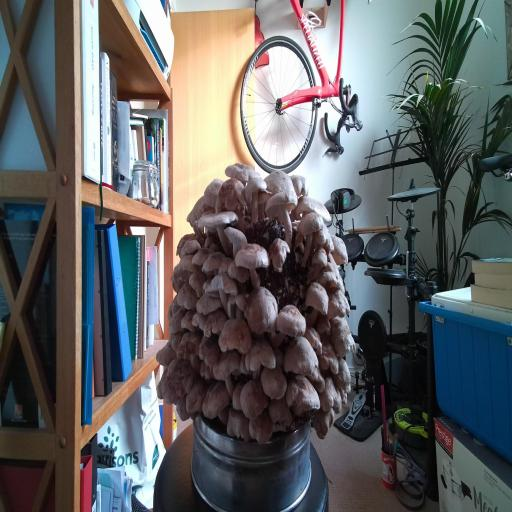Shiitake Mushroom: (143, 345, 208, 421), (222, 226, 283, 292), (283, 199, 331, 268), (192, 258, 250, 315), (258, 298, 317, 349), (228, 369, 278, 429), (193, 195, 241, 257), (239, 278, 283, 344), (260, 179, 300, 248), (205, 336, 250, 397), (212, 170, 254, 232), (322, 307, 362, 367), (283, 368, 322, 420), (236, 168, 271, 225), (304, 395, 345, 443), (173, 321, 209, 374), (241, 332, 279, 382), (164, 247, 206, 291), (180, 368, 213, 423), (192, 325, 226, 378), (194, 242, 234, 284), (200, 375, 233, 425), (261, 229, 296, 276), (327, 355, 361, 400), (179, 191, 219, 229), (195, 305, 236, 341), (220, 213, 252, 259), (220, 159, 266, 191), (302, 278, 331, 328), (300, 243, 336, 282), (284, 336, 319, 376), (218, 317, 253, 355), (292, 193, 335, 223), (246, 407, 276, 450), (182, 261, 215, 300), (172, 277, 203, 317), (148, 338, 183, 373), (298, 322, 332, 358), (308, 221, 337, 263), (190, 286, 228, 318), (225, 406, 256, 445), (199, 169, 226, 212), (186, 236, 218, 272), (221, 257, 256, 288), (261, 167, 297, 196), (303, 363, 331, 400), (170, 225, 200, 258), (261, 365, 288, 401), (319, 377, 343, 413), (318, 340, 341, 375), (267, 395, 291, 425), (175, 234, 205, 258), (194, 359, 220, 386), (328, 289, 351, 319), (215, 250, 236, 280), (160, 295, 184, 321), (289, 230, 313, 255), (173, 394, 192, 425), (166, 325, 186, 353), (317, 270, 345, 290), (331, 234, 349, 265), (168, 305, 186, 336), (227, 293, 246, 318), (324, 251, 342, 276), (231, 380, 244, 411), (289, 175, 309, 195), (314, 315, 332, 336), (191, 310, 208, 332), (181, 310, 198, 332)
